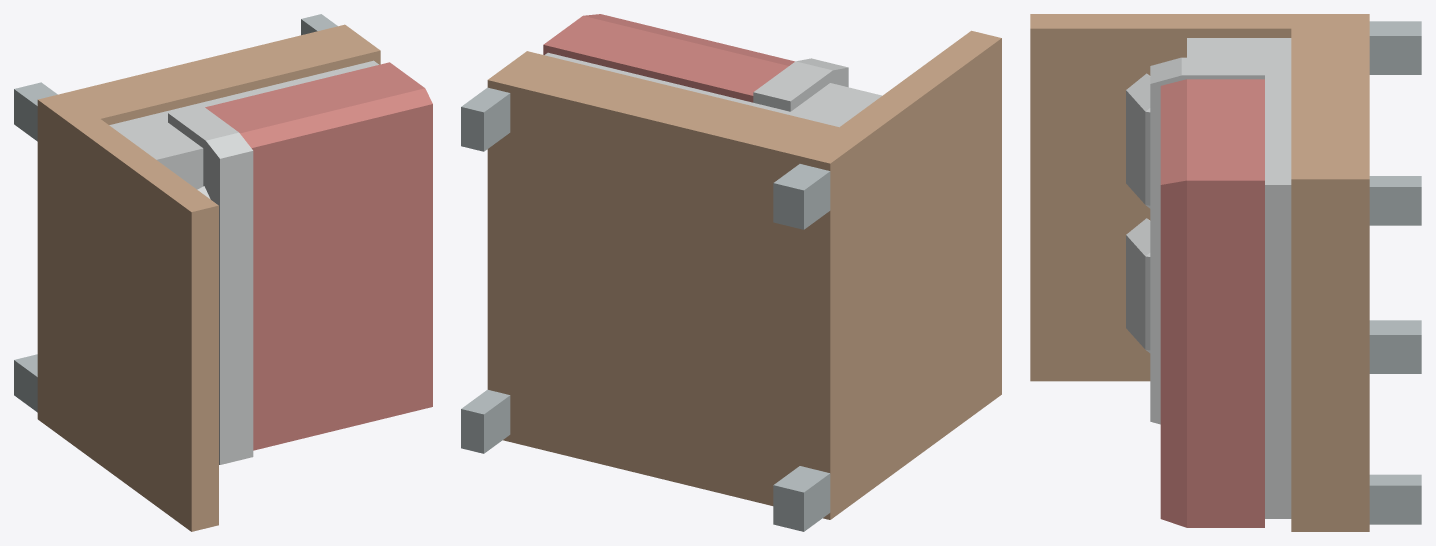
Rendered from bed-double.glb.
The picture shows the model from 3 angles, left to right: view 1: azimuth 30°, elevation 25°; view 2: azimuth 150°, elevation 25°; view 3: azimuth 270°, elevation 25°; orthographic projection. The views are drawn at different scales.
Visible parts, largest first — view 1: furniture/bed-double; view 2: furniture/bed-double; view 3: furniture/bed-double.
Boxes of the visible parts, <box> form: furniture/bed-double: <box>14,14,432,531</box>; furniture/bed-double: <box>461,14,1001,531</box>; furniture/bed-double: <box>1030,14,1421,531</box>.
Bounding box in the file's own units: 1 × 1 × 1.
